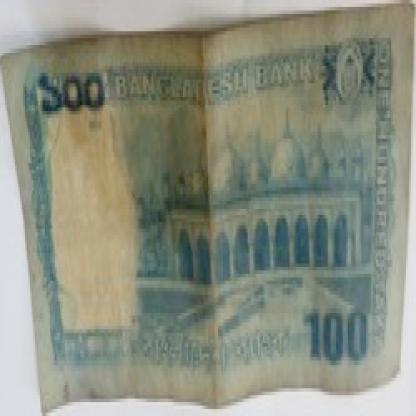one hundred taka: (303, 302, 369, 371), (33, 69, 110, 118)
